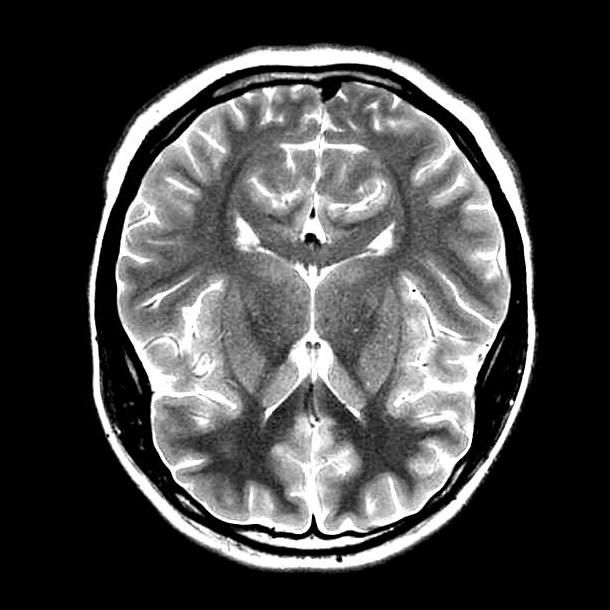Normal_Brain: (9, 1, 610, 610)
